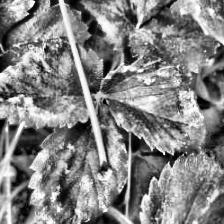Powdery Mildew Leaf: (28, 98, 129, 224), (101, 56, 206, 156), (0, 36, 105, 130), (171, 0, 224, 136)
